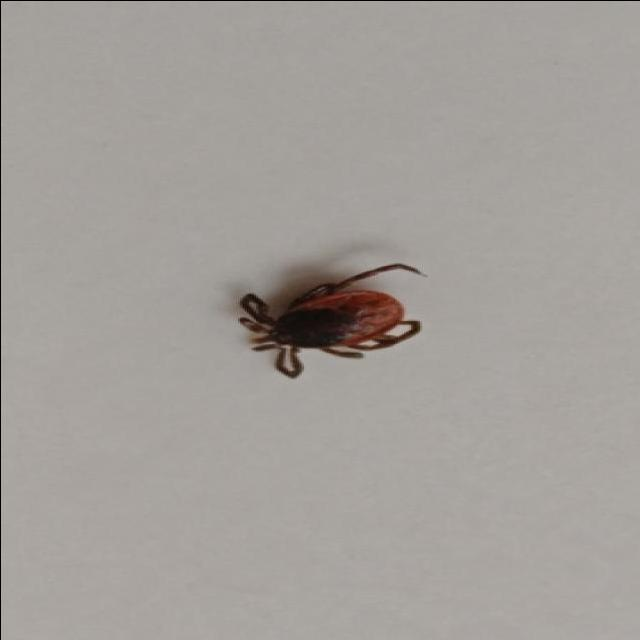Ixodes Ricinus-F: (235, 261, 426, 378)
